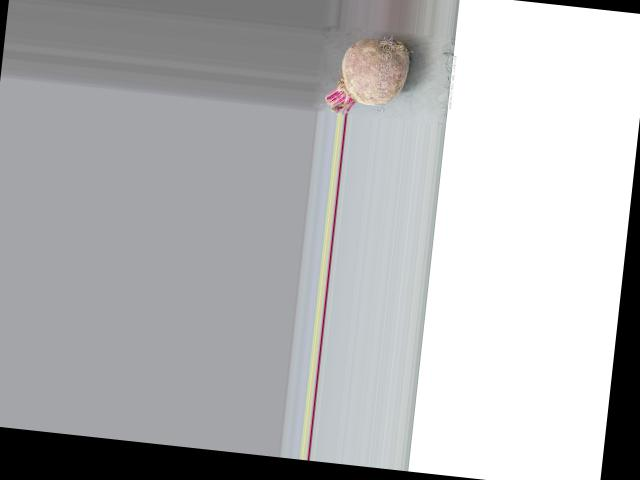beet: (324, 32, 411, 120)
